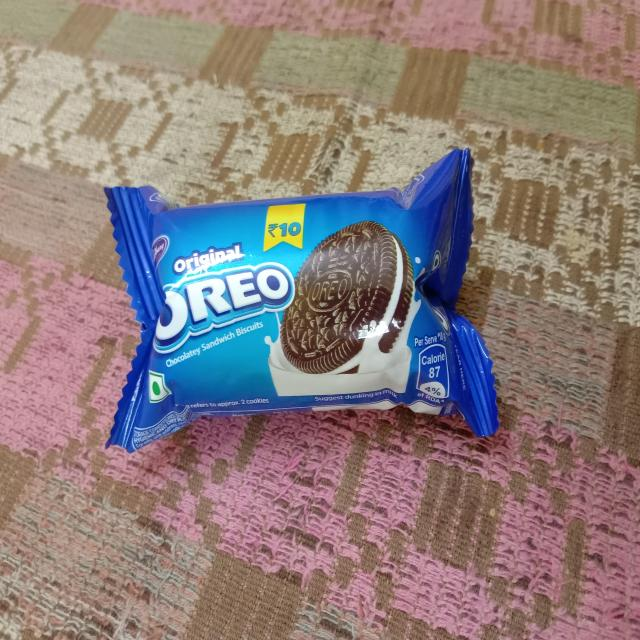oreo biscuit: (78, 164, 519, 458)
